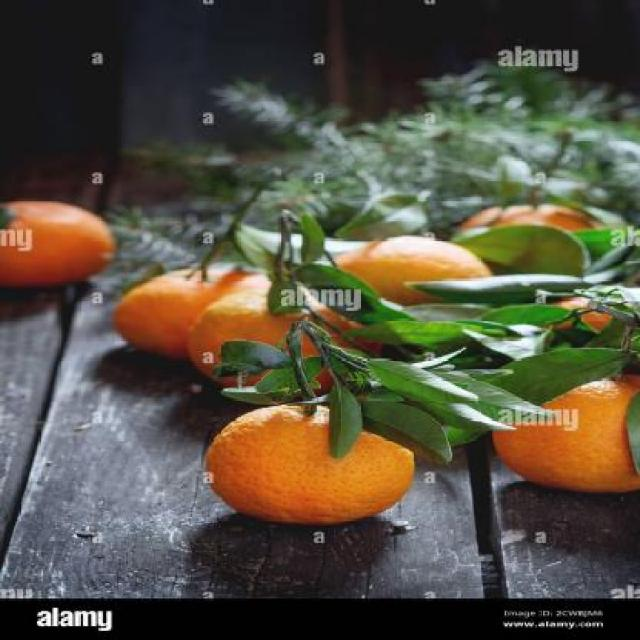Orange: (203, 400, 415, 525), (186, 285, 372, 392), (491, 371, 638, 492), (112, 265, 268, 357), (332, 232, 492, 306), (0, 197, 115, 288)
